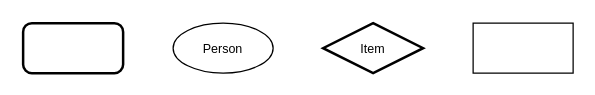
The diagram is 595 pixels wide and 95 high, and some of its shapes have lost their labels. The shapes that lost their labels are listed below. From the top down, each one's box as (x1, y1, x2, y2) in pixels, then its label:
(21, 21, 124, 74): Faction
(472, 22, 573, 73): Location
